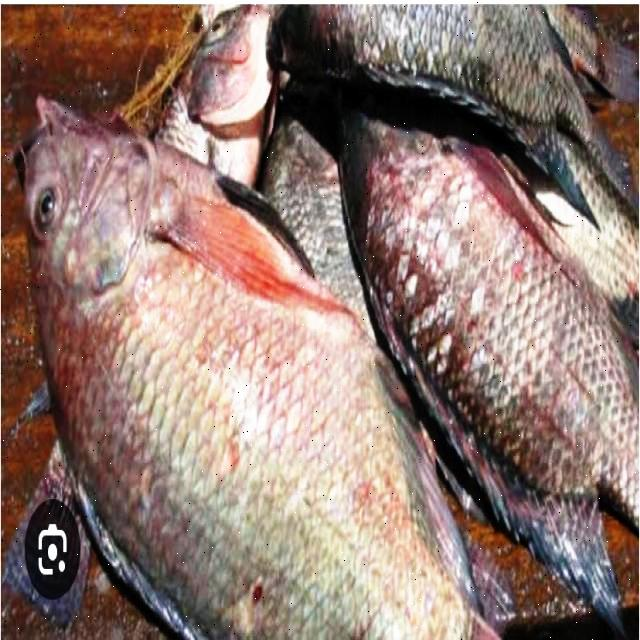Tilapia Lake Virus -TiLV-: (14, 97, 499, 639), (14, 97, 498, 639), (338, 107, 639, 629), (339, 107, 639, 629)
